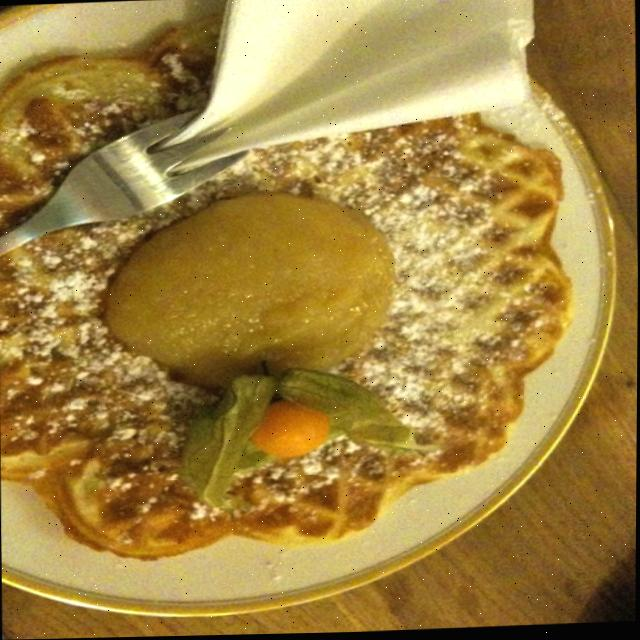炸货点心: (0, 11, 591, 607)
蛋糕甜品: (0, 11, 591, 607)
